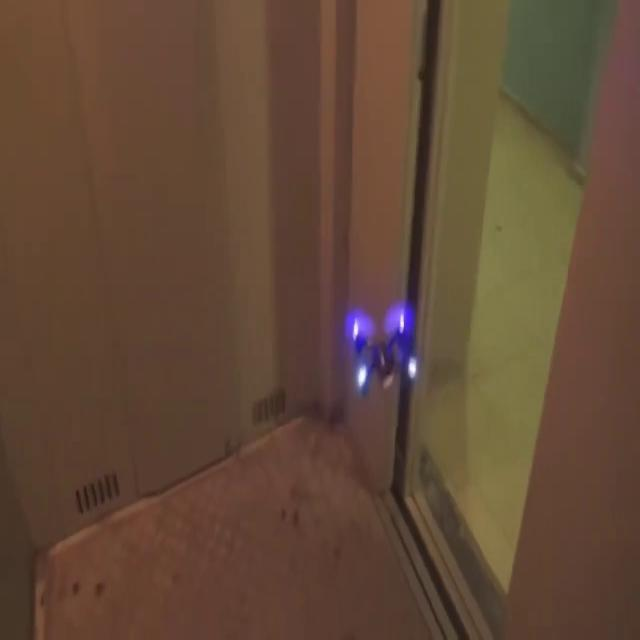Drons: (337, 305, 435, 399)
